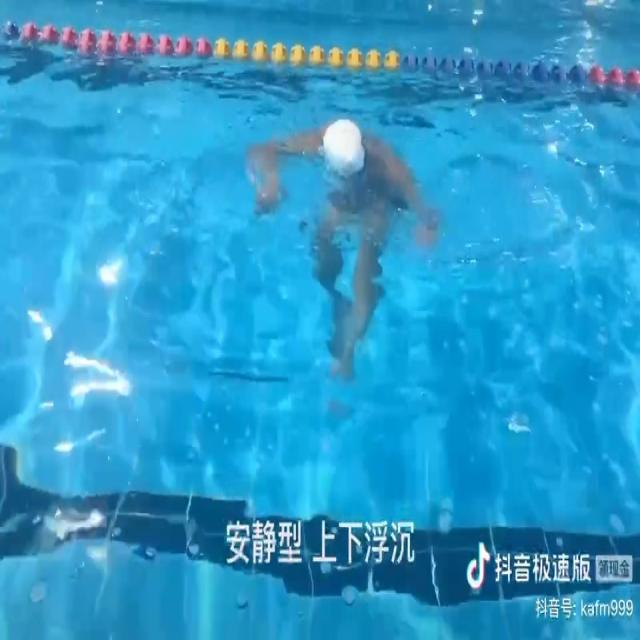Drowning: (246, 118, 435, 384)
